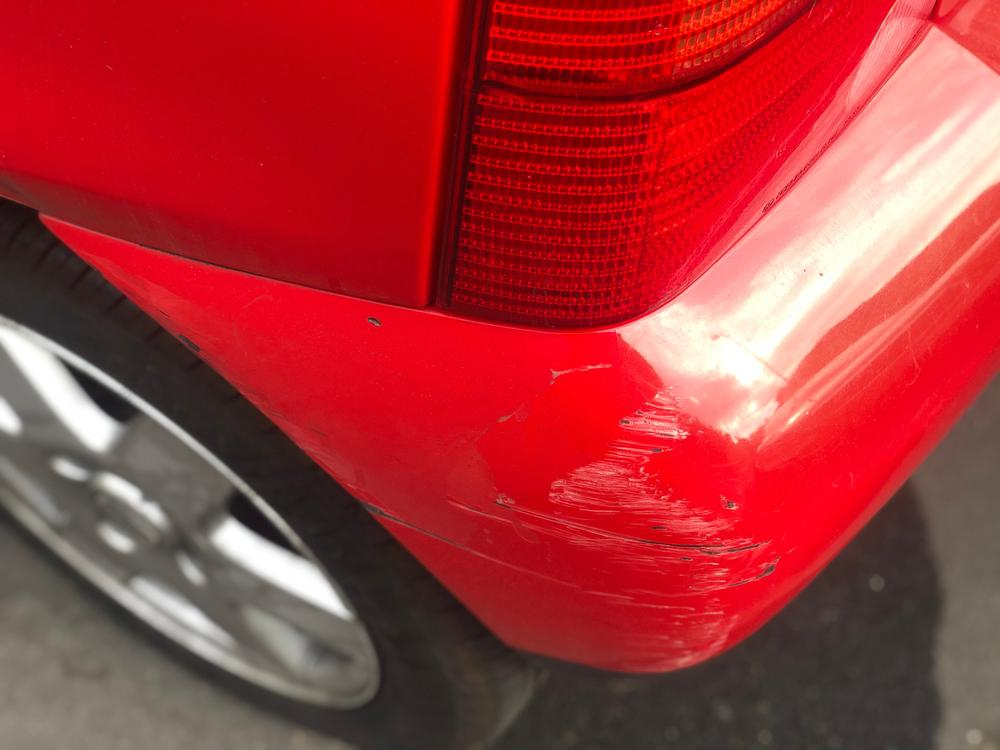scratch: (362, 380, 782, 670)
